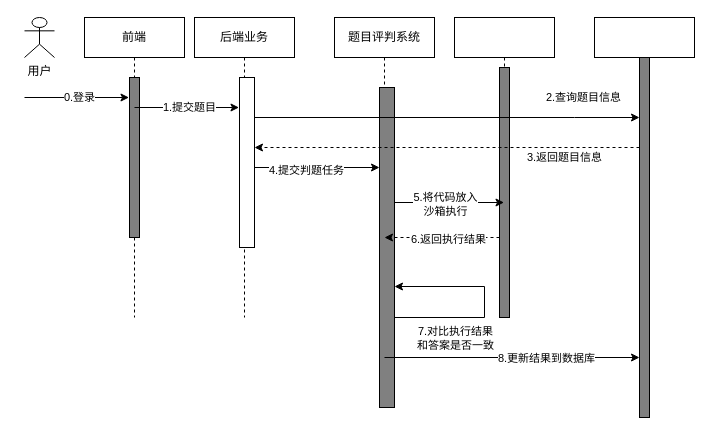
Some shapes in this 712 by 435 pixel diagram are drawn without their labels. The box of each missing label's shape, as (x1, y1, x2, y2) in pixels:
数据库: (594, 16, 694, 418)
沙箱: (454, 16, 554, 318)
